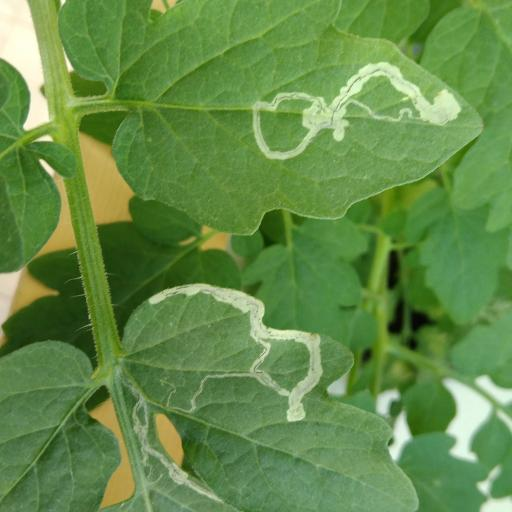disease_tomato: (58, 0, 485, 235), (120, 278, 418, 512)
